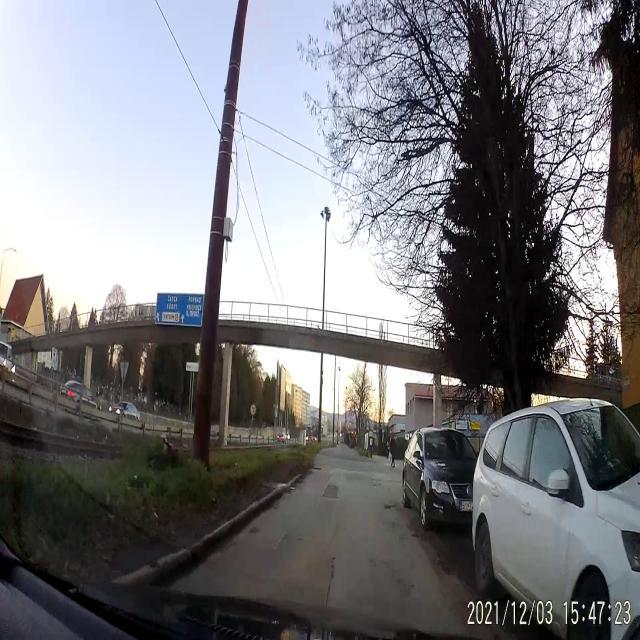Pothole: (383, 498, 398, 516)
